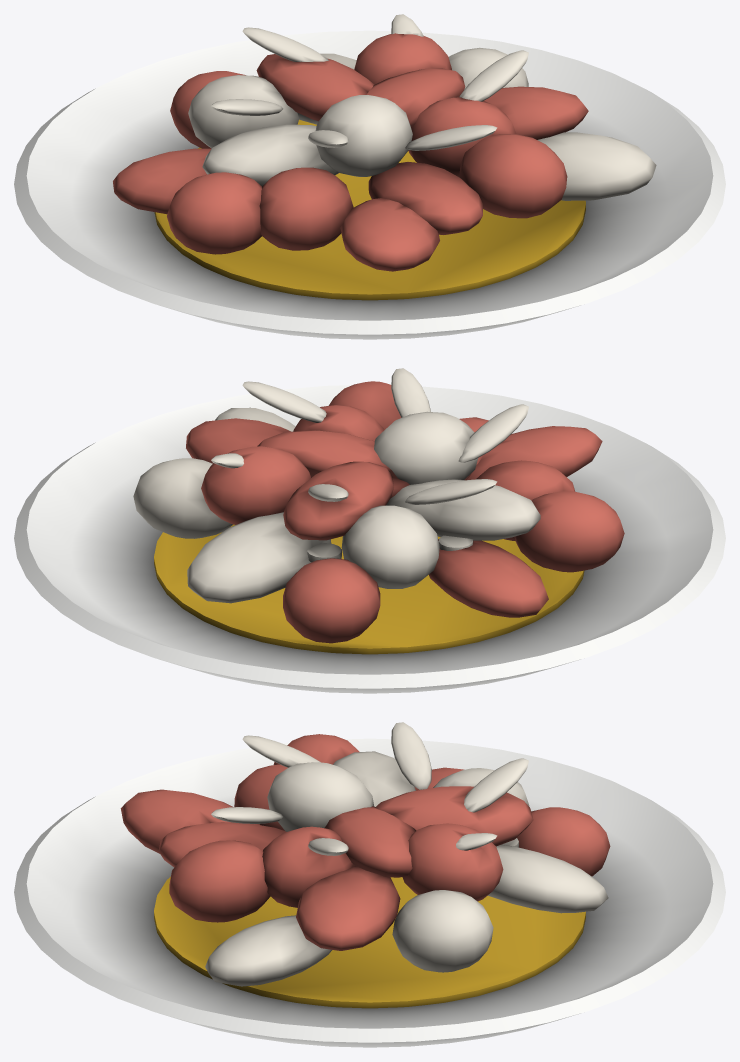
The model's file is meal_stirfry.glb.
The picture shows the model from 3 angles, top to bottom: view 1: azimuth 30°, elevation 25°; view 2: azimuth 150°, elevation 25°; view 3: azimuth 270°, elevation 25°; orthographic projection.
Parts seen in each view (by area): view 1: PART; view 2: PART; view 3: PART.
Part boxes in pixels (x1,y1,x2,y2): PART: (14,14,725,339); PART: (14,368,725,693); PART: (14,722,725,1047).
Bounding box in the file's own units: 0.2957 × 0.0744 × 0.2957.
